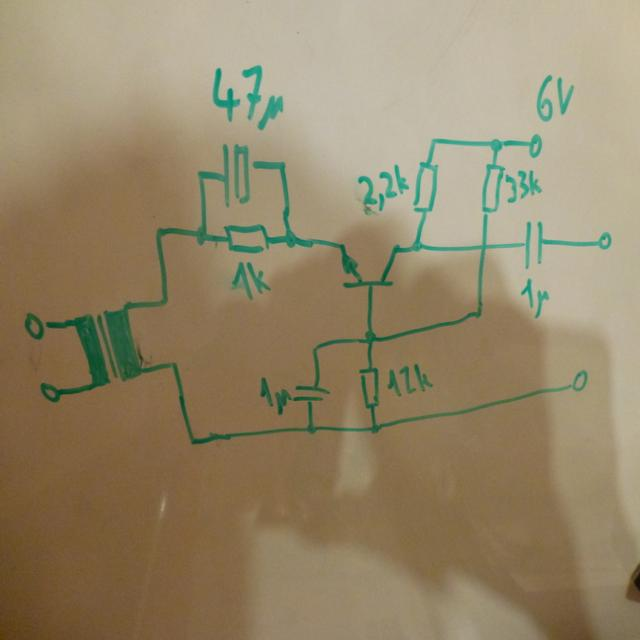capacitor: (216, 140, 260, 210), (517, 217, 552, 270), (291, 375, 330, 411)
crossover: (476, 238, 491, 254)
junction: (406, 234, 427, 258), (193, 219, 210, 248), (280, 226, 299, 251), (486, 133, 504, 156), (192, 165, 212, 185), (361, 324, 377, 348), (425, 131, 442, 153), (274, 153, 290, 176), (150, 219, 164, 244), (367, 419, 384, 436), (184, 432, 198, 452), (304, 418, 318, 438), (471, 304, 487, 321), (166, 354, 181, 372), (156, 290, 170, 308), (309, 340, 321, 356)
resistor: (219, 218, 276, 257), (411, 154, 439, 223), (478, 157, 503, 218), (356, 362, 382, 414)
terminal: (20, 307, 50, 343), (566, 362, 590, 398), (36, 376, 62, 407), (524, 130, 544, 161), (594, 227, 613, 253)
text: (207, 60, 286, 134), (354, 161, 410, 210), (533, 69, 577, 127), (228, 259, 274, 301), (515, 274, 555, 321), (382, 361, 433, 396), (256, 371, 292, 418), (503, 165, 544, 205)
transformer: (72, 296, 146, 397)
transistor: (336, 237, 402, 294)
